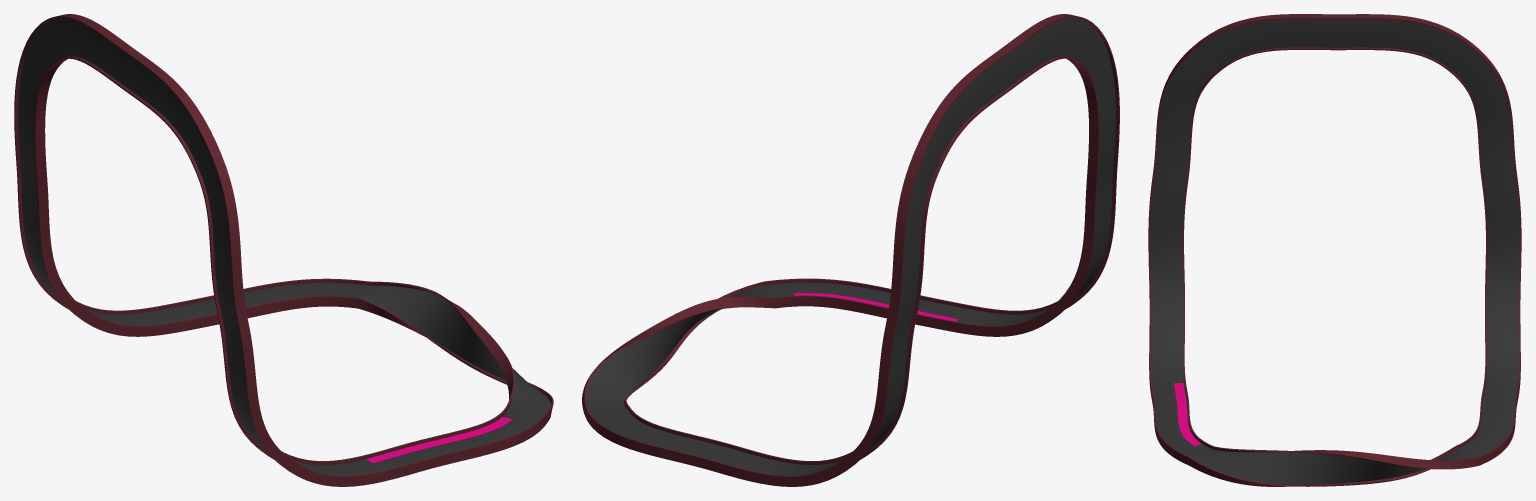
Rendered from Mobius Right Square.fbx.
3 renders of one model, left to right at view 1: azimuth 30°, elevation 25°; view 2: azimuth 150°, elevation 25°; view 3: azimuth 270°, elevation 25°, orthographic. The views are drawn at different scales.
Visible parts, largest first — view 1: Track, Wall_1, Wall_2, ChargePad; view 2: Track, Wall_1, Wall_2; view 3: Track, Wall_1, Wall_2, ChargePad.
Part boxes in pixels (x1,y1,x2,y2): Track: (18, 18, 550, 475); Wall_1: (14, 14, 514, 486); Wall_2: (34, 56, 553, 472); ChargePad: (366, 417, 512, 463); Track: (586, 18, 1115, 476); Wall_1: (582, 14, 1119, 486); Wall_2: (624, 56, 1099, 464); Track: (1150, 19, 1519, 484); Wall_1: (1148, 14, 1521, 469); Wall_2: (1152, 47, 1487, 486); ChargePad: (1174, 383, 1201, 446).
Bounding box in the file's own units: 21827 × 22751 × 23319.
